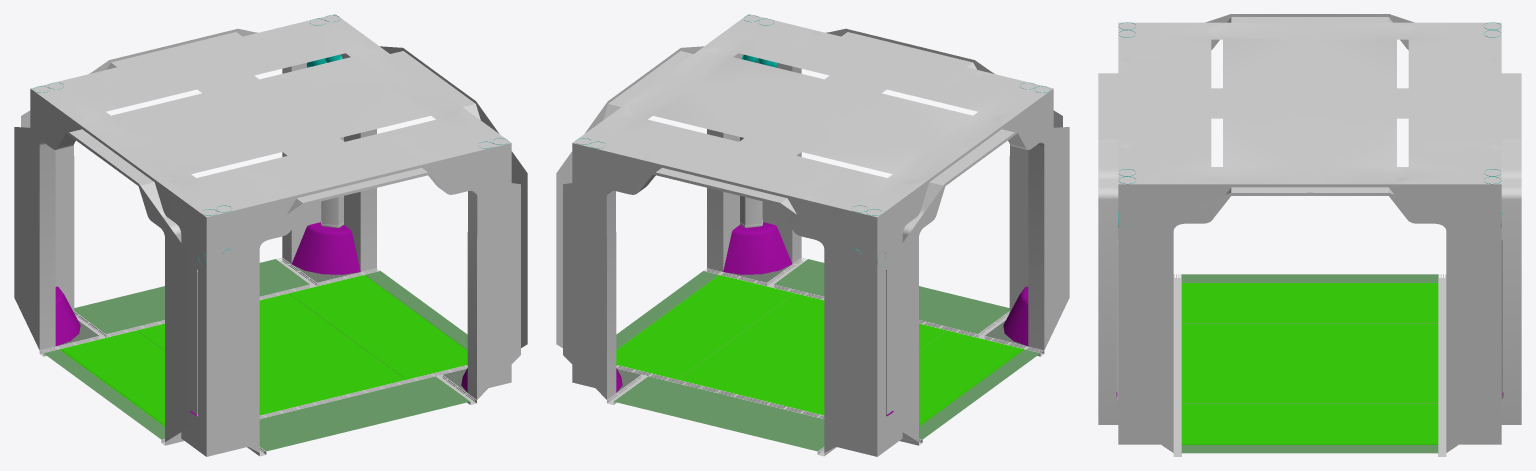
Rendered from x_type2.fbx.
3 renders of one model, left to right at view 1: azimuth 30°, elevation 25°; view 2: azimuth 150°, elevation 25°; view 3: azimuth 270°, elevation 25°, orthographic. The views are drawn at different scales.
Parts seen in each view (by area): view 1: Type_X, metal_net; view 2: Type_X, metal_net; view 3: Type_X, metal_net.
Part boxes in pixels (bbox=[...]): Type_X: bbox=[14, 14, 527, 456]; metal_net: bbox=[40, 257, 476, 452]; Type_X: bbox=[556, 14, 1069, 456]; metal_net: bbox=[607, 257, 1043, 452]; Type_X: bbox=[1098, 14, 1521, 456]; metal_net: bbox=[1173, 274, 1446, 453].
Size of the model in its own units: 442 by 305 by 442.
